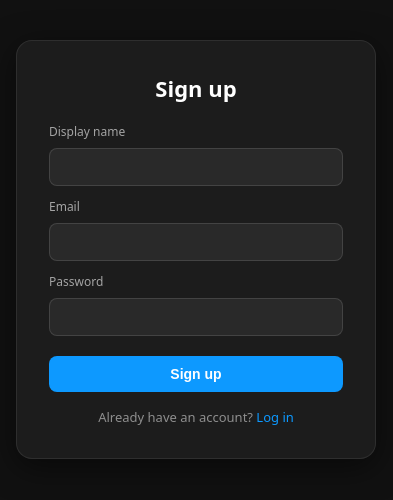
Test: SignupPage › shows error message on signup failure
The width and height of the screenshot is (393, 500).
Type "Alice" into the field labelled "Display name" at (196, 166), box [49,148,343,186]
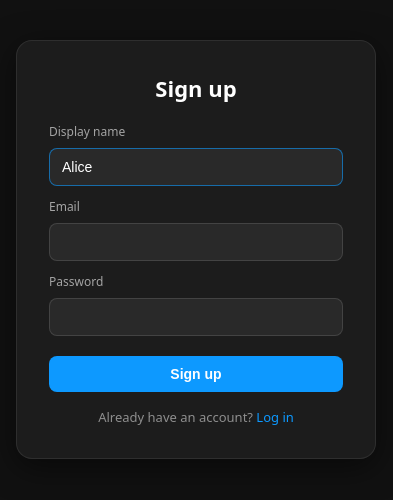
Type "a@b.com" into the field labelled "Email" at (196, 242), box [49,222,343,260]
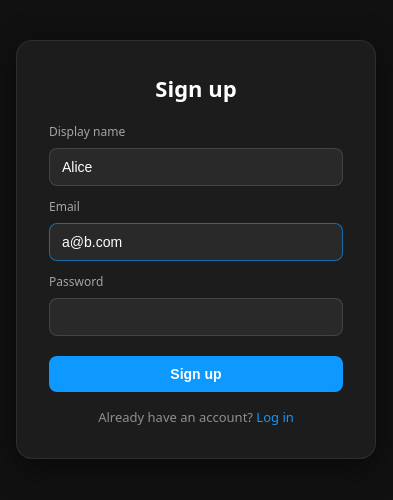
Type "secret123" into the password field labelled "Password" at (196, 316), box [49,298,343,336]
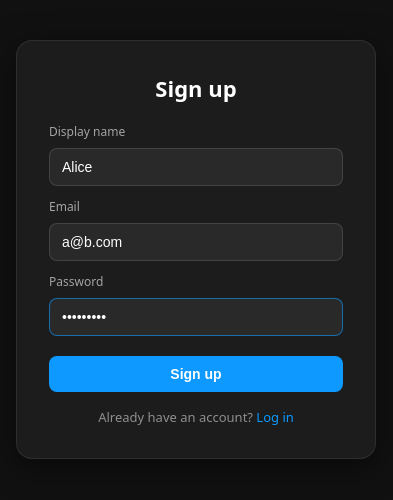
Click the button "Sign up" at (196, 374), box [49,356,343,392]
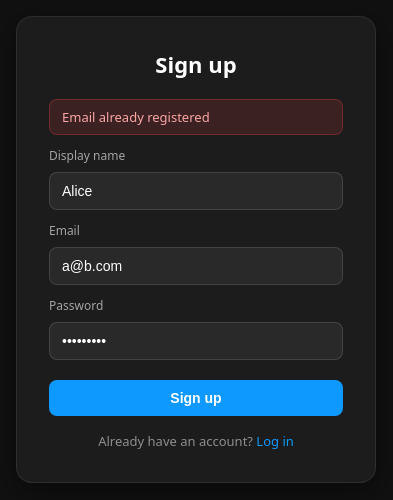
Expected: the message reads "Email already registered", [62,108,210,126]
